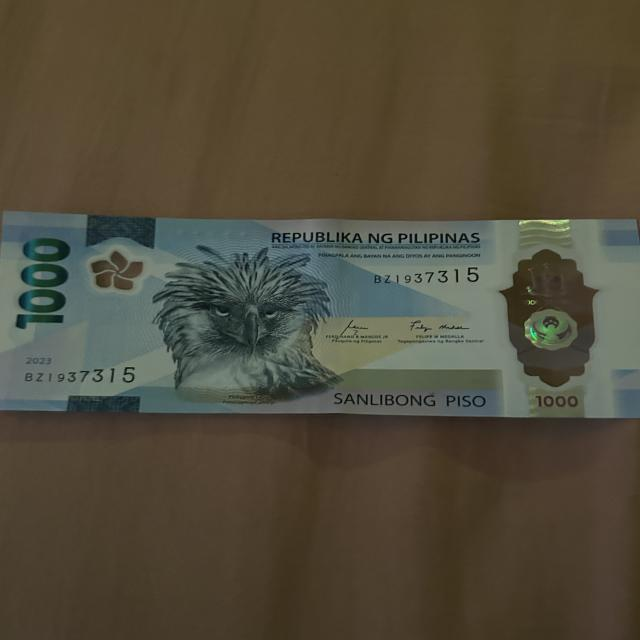clear_window: (500, 247, 596, 391)
eagle: (154, 251, 333, 402), (89, 248, 146, 293)
